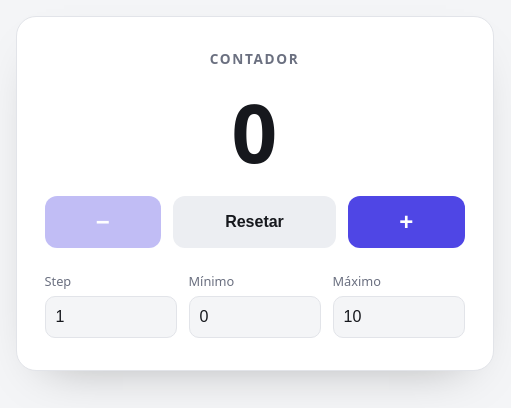
Test: Counter › resets to 0
The width and height of the screenshot is (511, 408).
What coordinates should you click on to do the following:
click the button named "Incrementar"
I would click on:
 (406, 222)
Its box is [348,196,464,248].
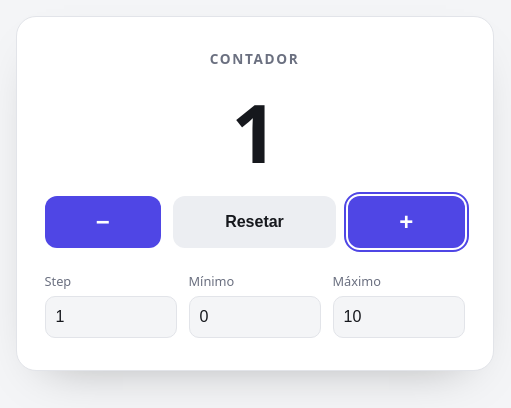
What coordinates should you click on to do the following:
click the button named "Incrementar"
I would click on:
 (406, 222)
Its box is [348,196,464,248].
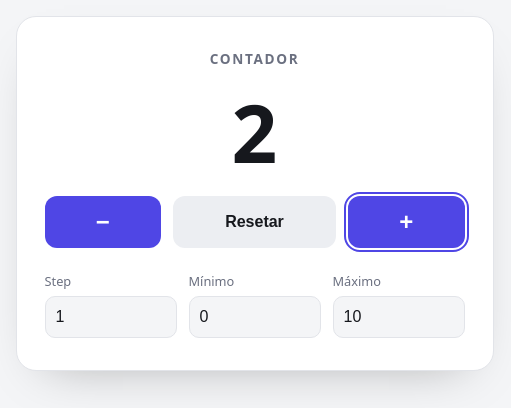
What coordinates should you click on to do the following:
click the button "Resetar"
I would click on:
 (254, 222)
Its box is [173,196,336,248].
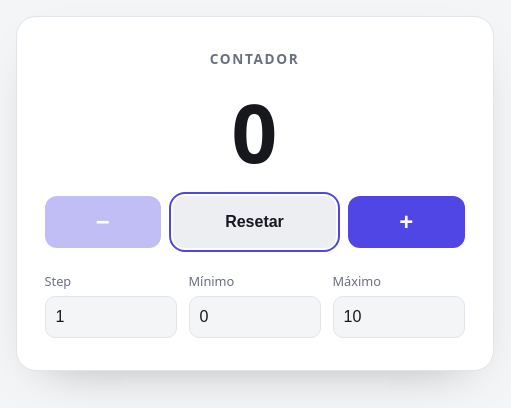
Expected: the text named "Valor atual" reads "0", [232,76,277,186]
